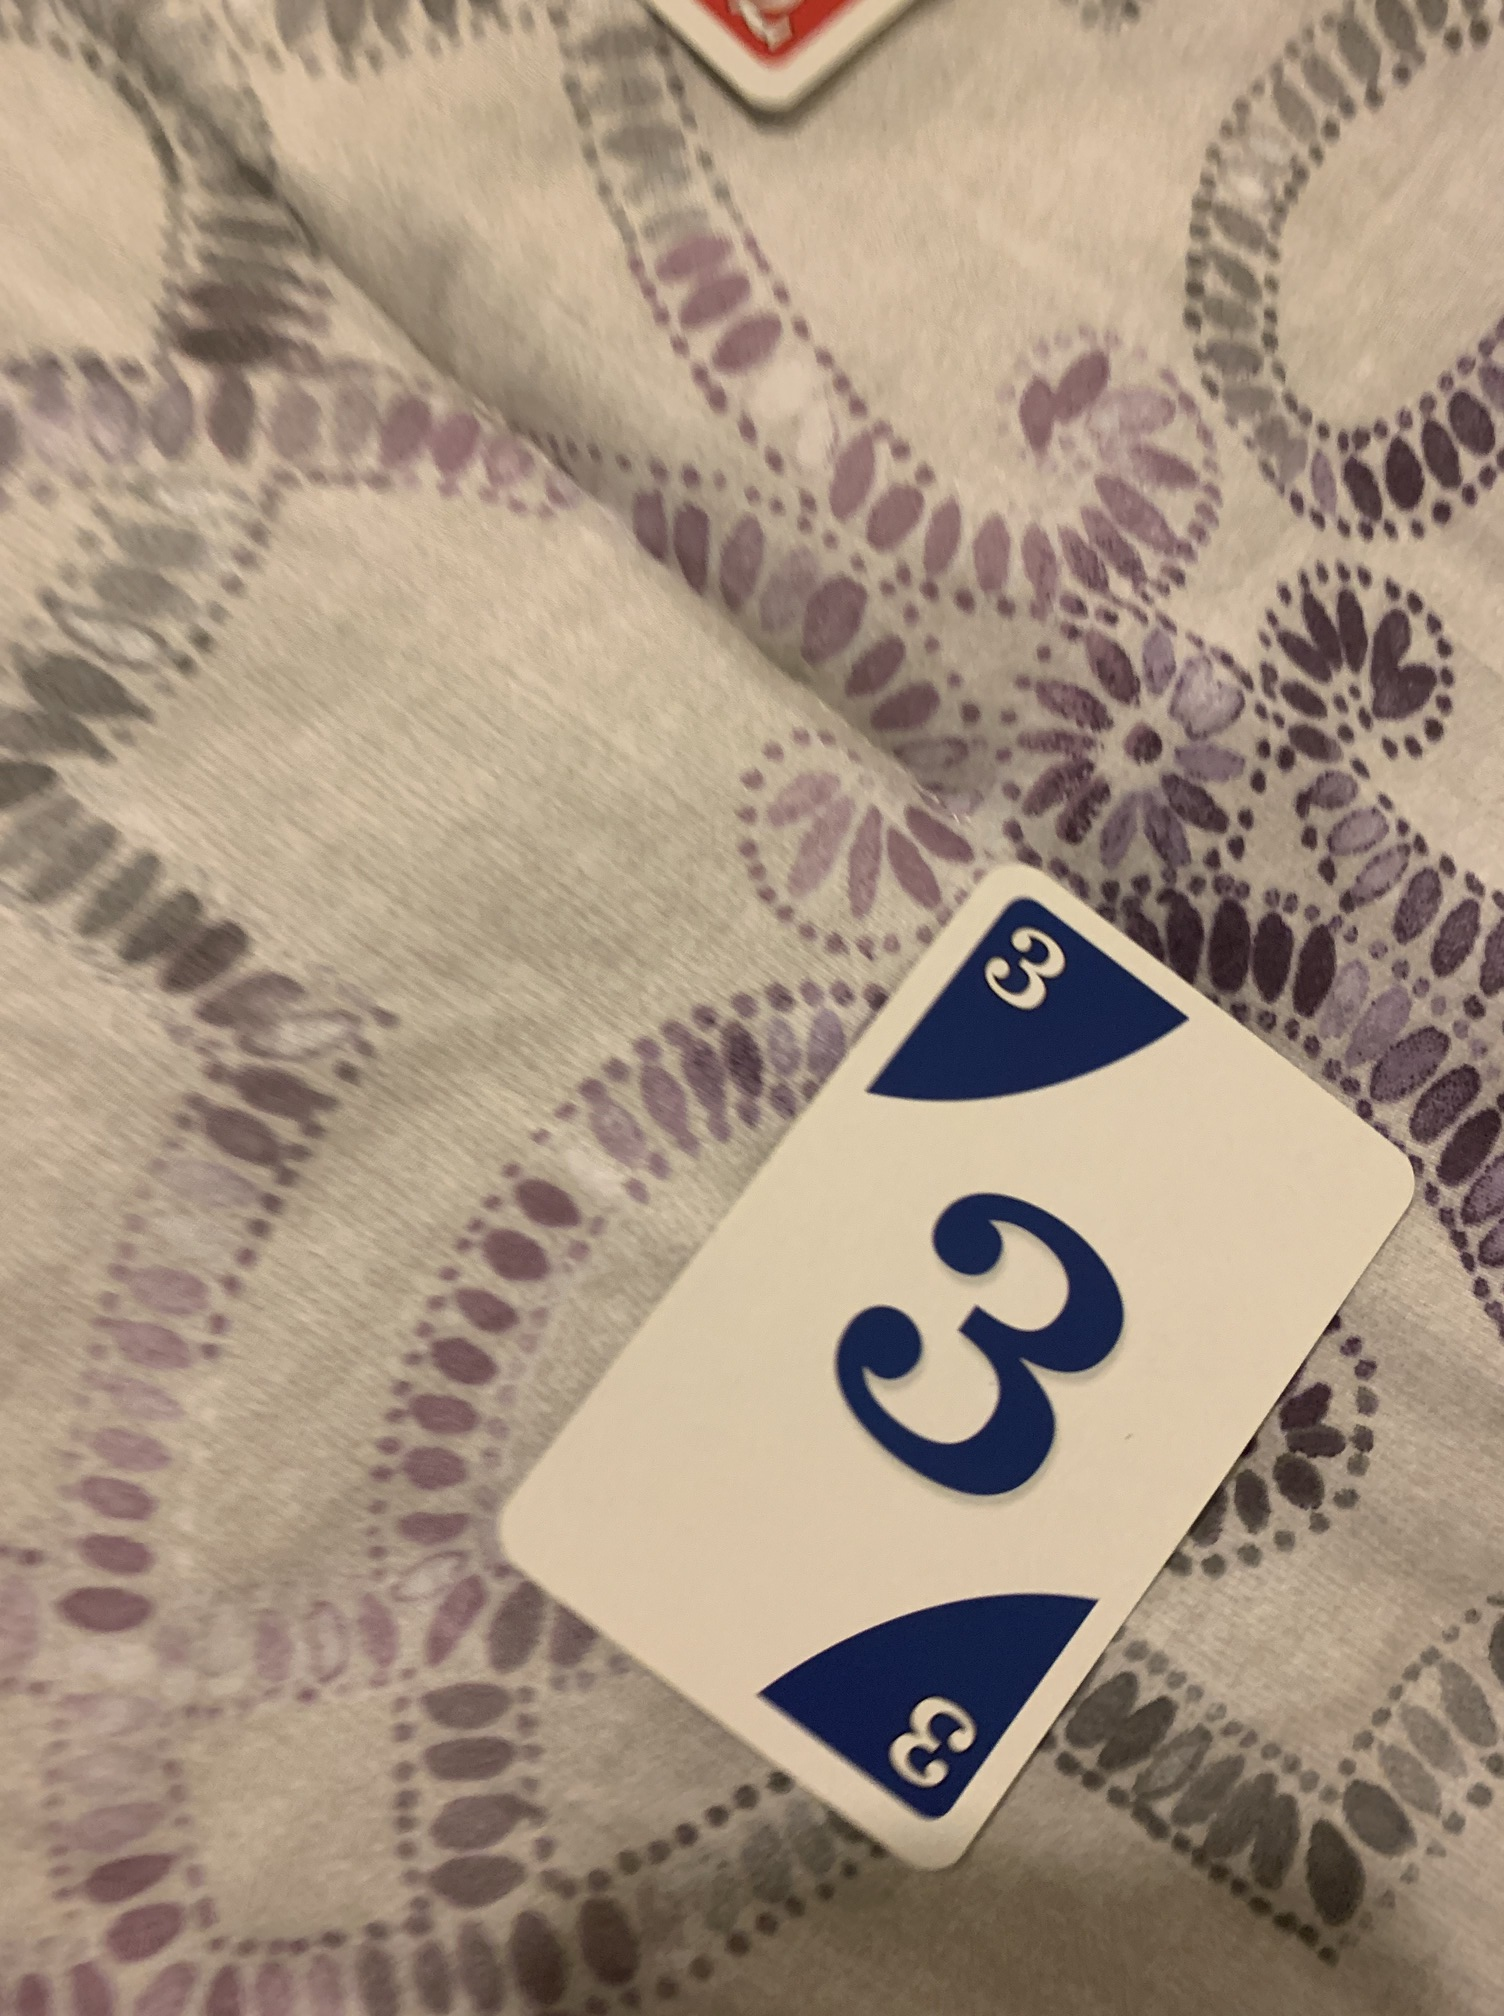three: (485, 856, 1423, 1888)
